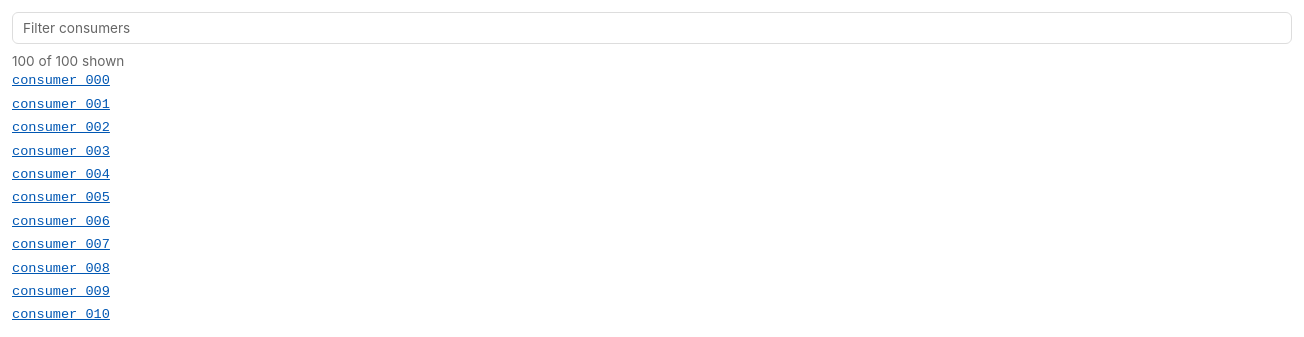
a filter that matches nothing says so, naming it
In the search field labelled "Filter consumers": (652, 28) [12,12,1292,44], type "nothing-like-this"
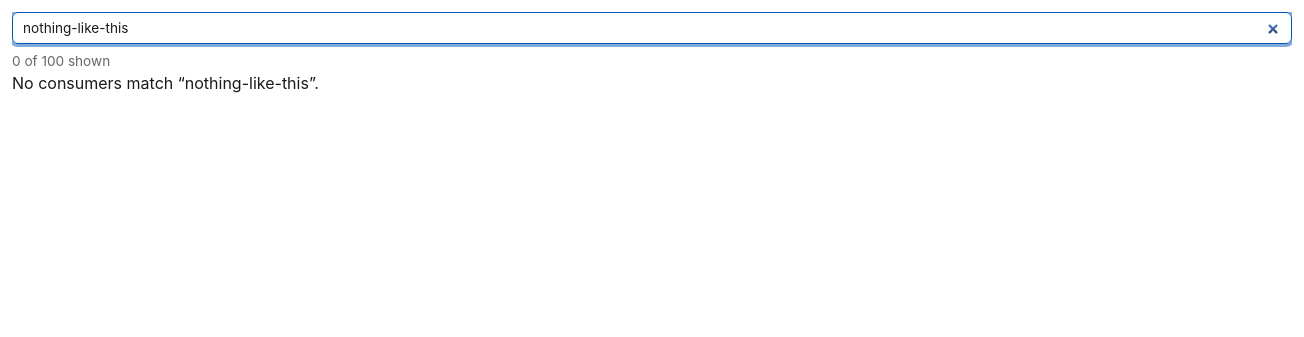
Result: the text "No consumers match “nothing-like-this”." is shown at [12,73,319,93]
